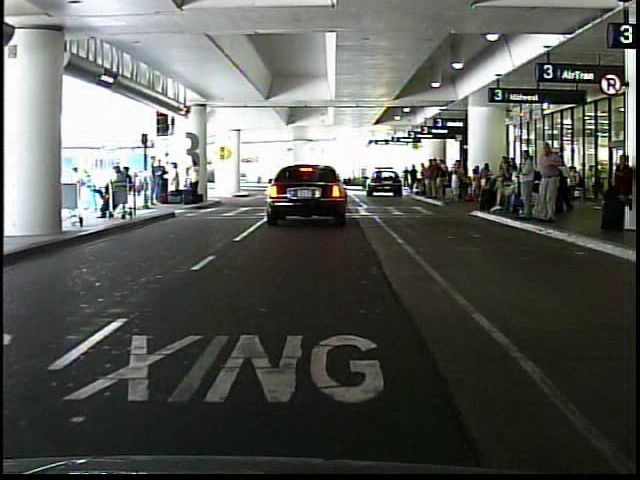person: (531, 136, 568, 229), (601, 151, 631, 230), (516, 147, 535, 223), (74, 160, 97, 218), (153, 157, 168, 205), (186, 158, 201, 202), (170, 160, 184, 203), (402, 165, 412, 192)
